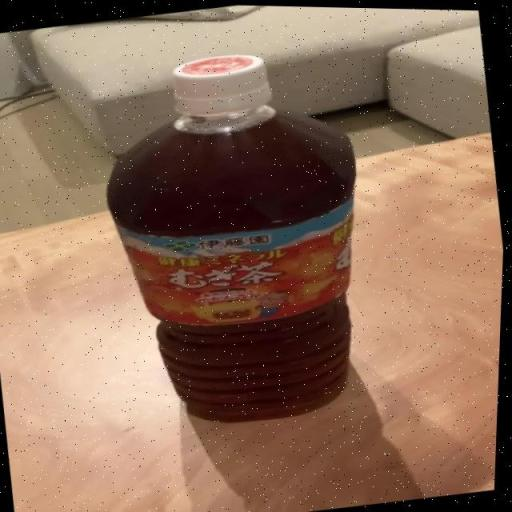plastic: (107, 53, 359, 423)
